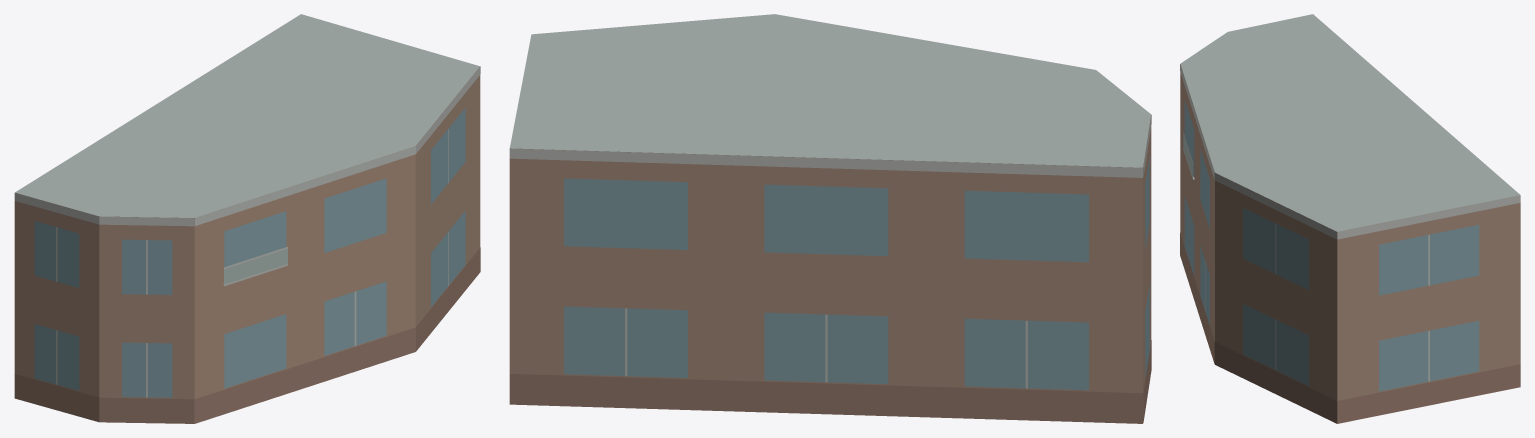
Rendered from survey-upis-33018687.glb.
3 renders of one model, left to right at view 1: azimuth 30°, elevation 25°; view 2: azimuth 150°, elevation 25°; view 3: azimuth 270°, elevation 25°, orthographic. The views are drawn at different scales.
Visible parts, largest first — view 1: survey-upis-33018687.tmp; view 2: survey-upis-33018687.tmp; view 3: survey-upis-33018687.tmp.
Part boxes in pixels (bbox=[...]): survey-upis-33018687.tmp: bbox=[14, 14, 480, 423]; survey-upis-33018687.tmp: bbox=[509, 14, 1151, 423]; survey-upis-33018687.tmp: bbox=[1180, 14, 1520, 423].
Bounding box in the file's own units: 14.86 × 6.1 × 9.81.
